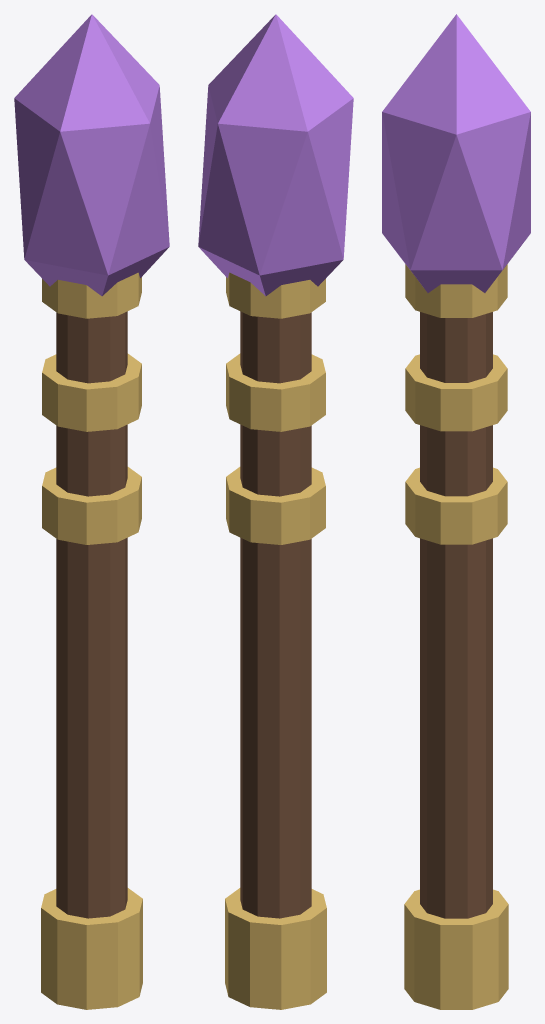
File: wand-3.glb
3 renders of one model, left to right at view 1: azimuth 30°, elevation 25°; view 2: azimuth 150°, elevation 25°; view 3: azimuth 270°, elevation 25°, orthographic.
Visible parts, largest first — view 1: Twisted walnut grip.005, Faceted moon crystal.005, Pommel.005, Rank gold inlay.010, Rank gold inlay.009, Rank gold inlay.011; view 2: Twisted walnut grip.005, Faceted moon crystal.005, Pommel.005, Rank gold inlay.010, Rank gold inlay.009, Rank gold inlay.011; view 3: Twisted walnut grip.005, Faceted moon crystal.005, Pommel.005, Rank gold inlay.010, Rank gold inlay.009, Rank gold inlay.011.
Part boxes in pixels (x1,y1,x2,y2): Twisted walnut grip.005: [56, 311, 127, 918]; Faceted moon crystal.005: [14, 14, 169, 296]; Pommel.005: [41, 888, 142, 1009]; Rank gold inlay.010: [42, 353, 141, 431]; Rank gold inlay.009: [42, 467, 141, 544]; Rank gold inlay.011: [42, 272, 141, 318]; Twisted walnut grip.005: [240, 311, 311, 918]; Faceted moon crystal.005: [198, 14, 353, 296]; Pommel.005: [225, 888, 326, 1009]; Rank gold inlay.010: [226, 353, 325, 431]; Rank gold inlay.009: [226, 467, 325, 544]; Rank gold inlay.011: [226, 272, 325, 318]; Twisted walnut grip.005: [420, 312, 492, 918]; Faceted moon crystal.005: [382, 14, 530, 292]; Pommel.005: [404, 889, 508, 1009]; Rank gold inlay.010: [405, 354, 507, 431]; Rank gold inlay.009: [405, 467, 507, 544]; Rank gold inlay.011: [405, 264, 507, 317].
Bounding box in the file's own units: 0.1503 × 1.03 × 0.1429.
